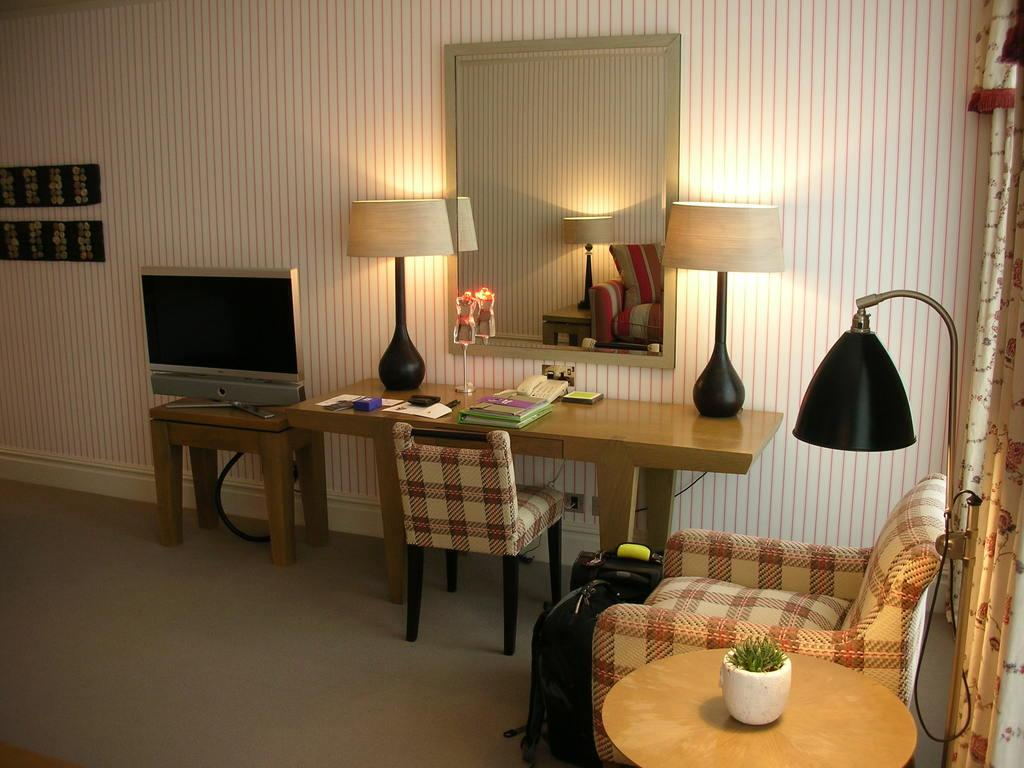Chair: (590, 472, 949, 766), (390, 419, 565, 655)
Computer-monitor: (136, 263, 306, 410)
Luggage-and-bags: (502, 542, 664, 766)
